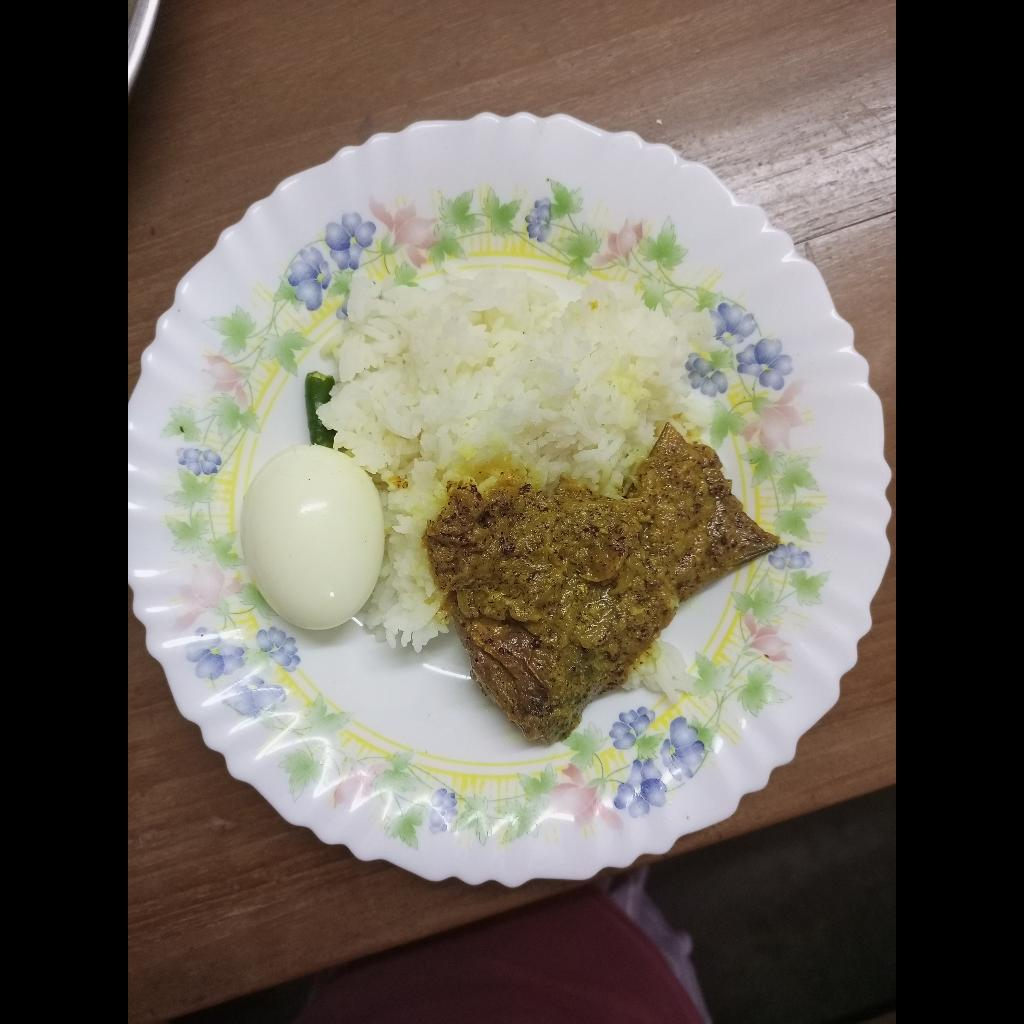egg-boiled: (244, 443, 387, 628)
fish: (428, 422, 779, 746)
rice: (317, 261, 691, 655)
